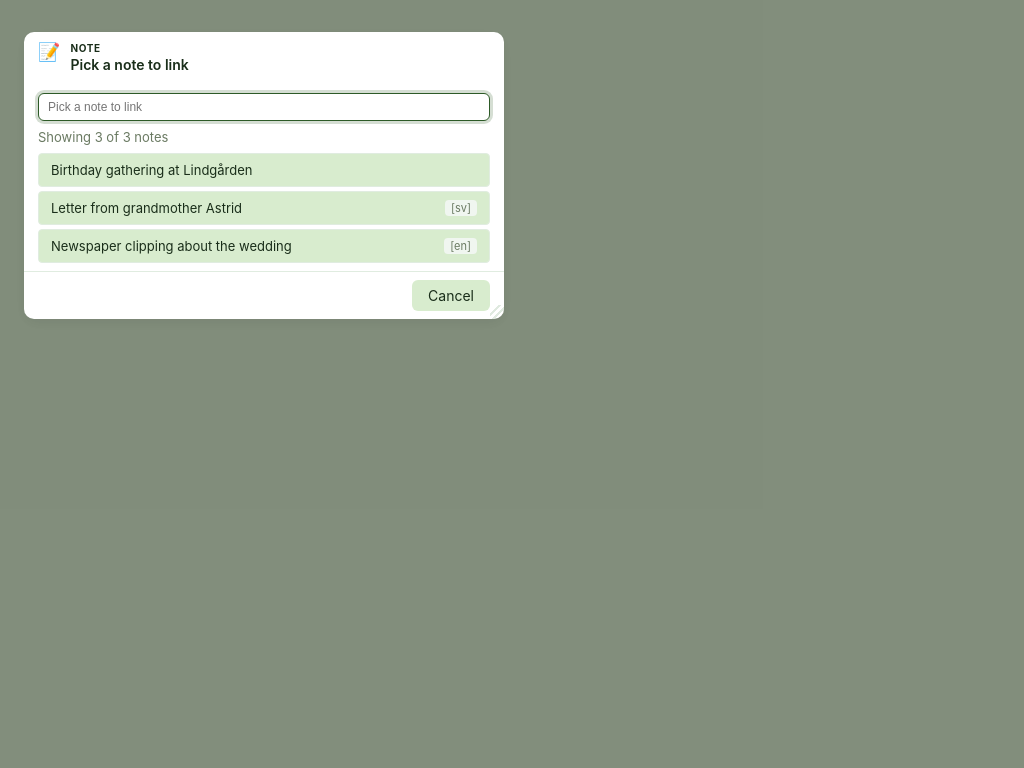
Test: NotePicker › shows empty state when no notes match
This screenshot has width=1024, height=768.
Type "nothing matches this" into the field with class "list-filter-input". click: coordinates (264, 107)
box: [38, 93, 490, 121]
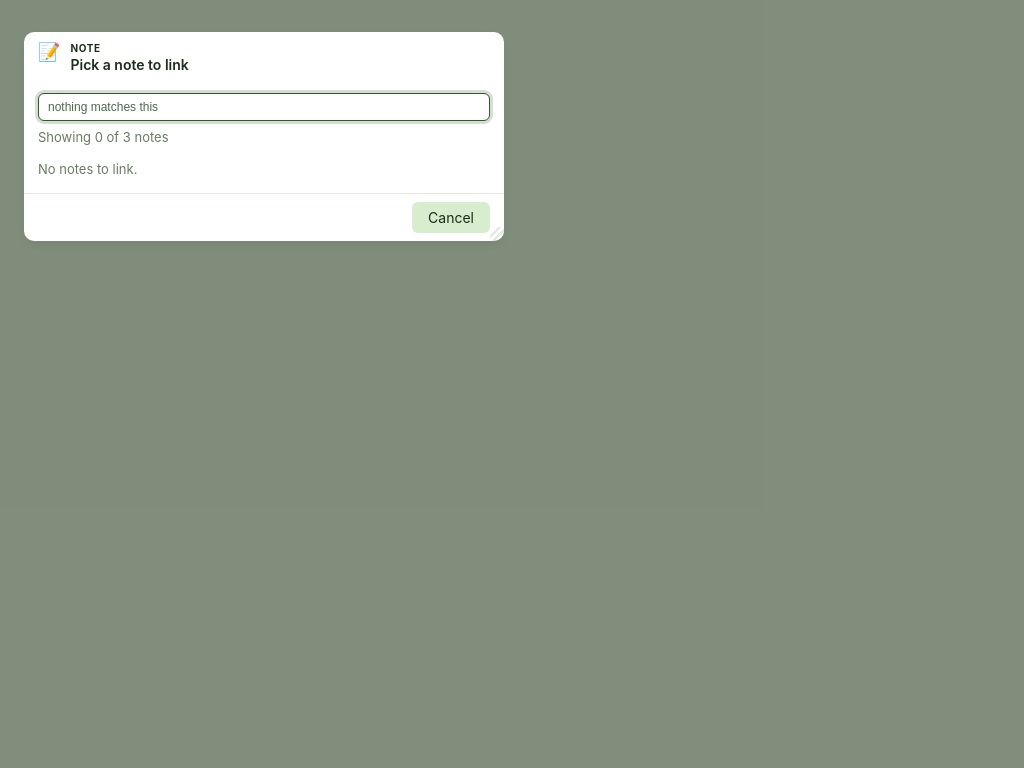
Now the element with class "section-empty" is shown, box [38, 161, 137, 177]
